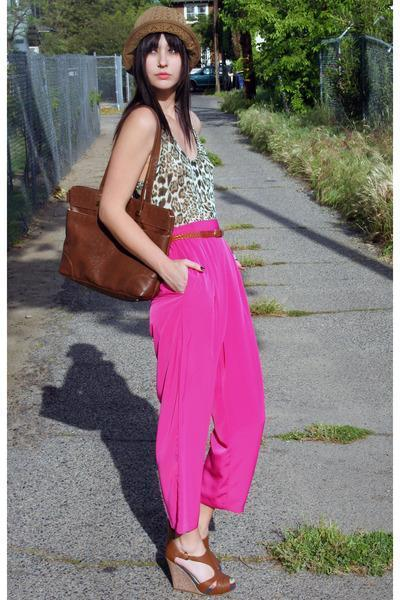bag: (61, 110, 175, 309)
hat: (119, 0, 203, 59)
pants: (149, 237, 264, 534)
shirt: (151, 142, 218, 224)
shoe: (166, 518, 235, 599)
